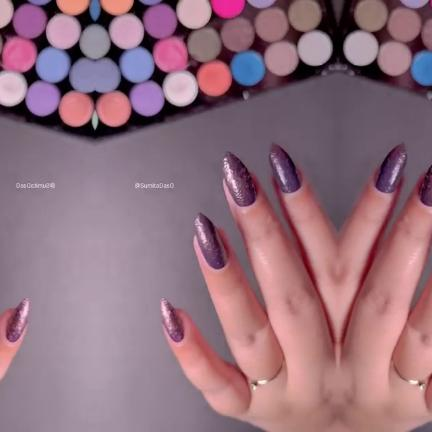Nail: (193, 212, 227, 270), (222, 151, 256, 207), (268, 142, 300, 194), (374, 142, 406, 194), (159, 296, 183, 343), (5, 296, 29, 343), (418, 163, 432, 207)
